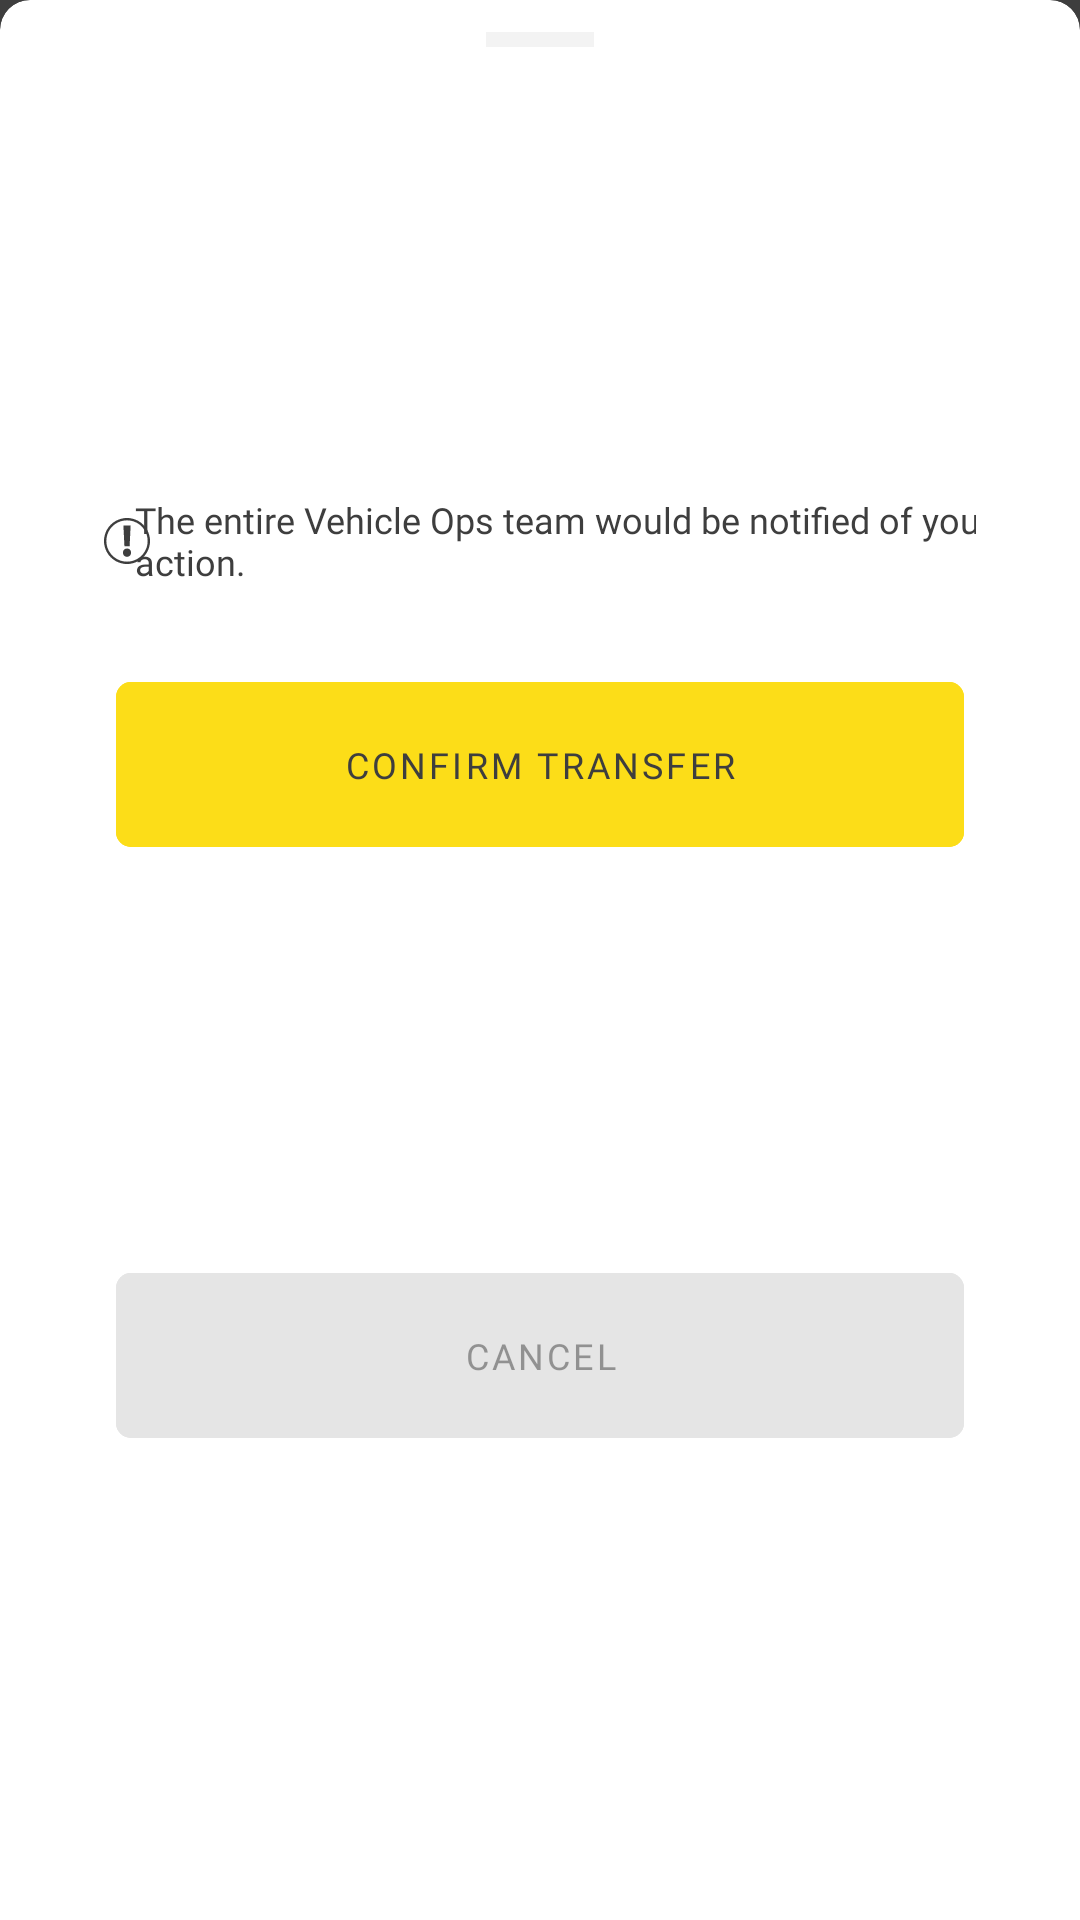

Where to tap for icons on this 1080 x 1920 app screen, as (x,y):
exclamation circle: (127,541)
